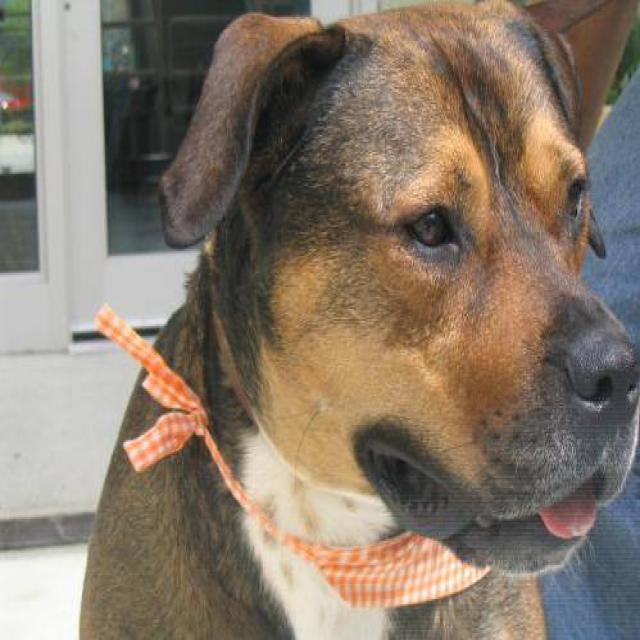dog: (74, 0, 638, 638)
